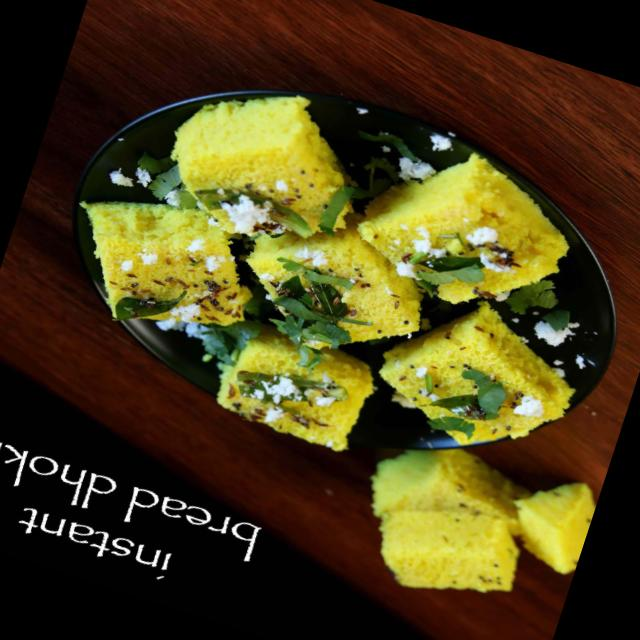dhokla: (33, 62, 614, 503), (397, 462, 574, 622)
